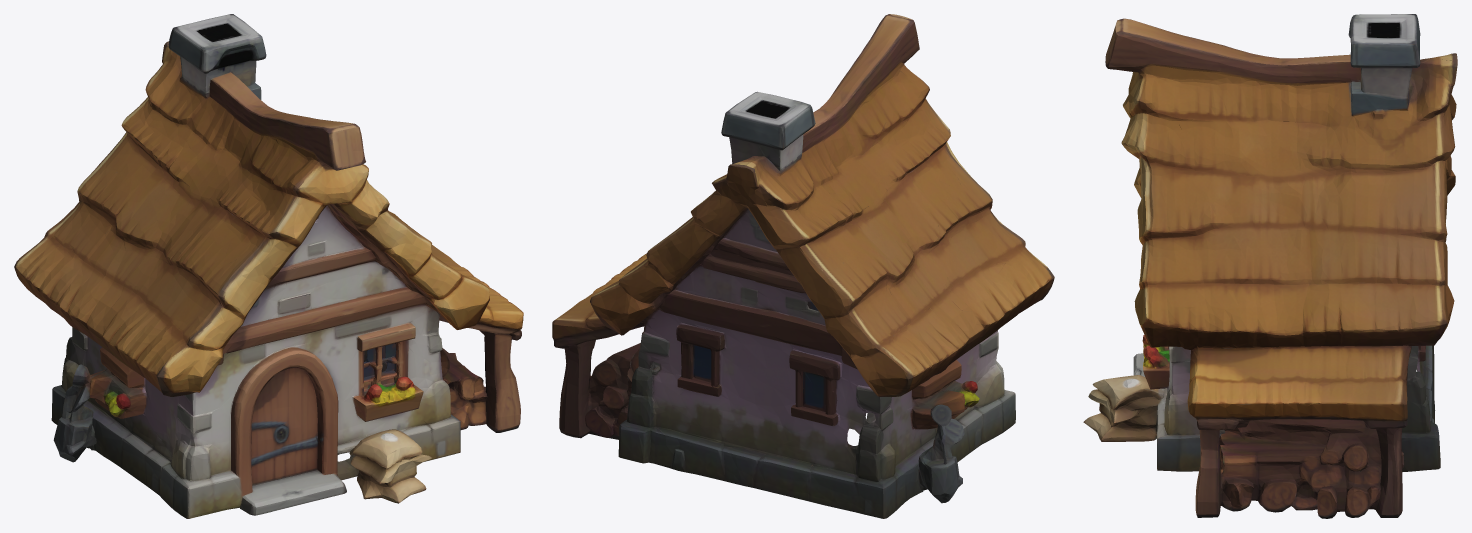
File: cottage.glb
The picture shows the model from 3 angles, left to right: view 1: azimuth 30°, elevation 25°; view 2: azimuth 150°, elevation 25°; view 3: azimuth 270°, elevation 25°; orthographic projection. The views are drawn at different scales.
Parts seen in each view (by area): view 1: geometry_0; view 2: geometry_0; view 3: geometry_0.
Part boxes in pixels (box(x1,y1,x2,y2)): geometry_0: box(14, 14, 523, 518); geometry_0: box(552, 14, 1054, 518); geometry_0: box(1083, 14, 1457, 518).
Size of the model in its own units: 1 by 0.9307 by 0.8142.
Materials: 1 (1 with a texture image).
